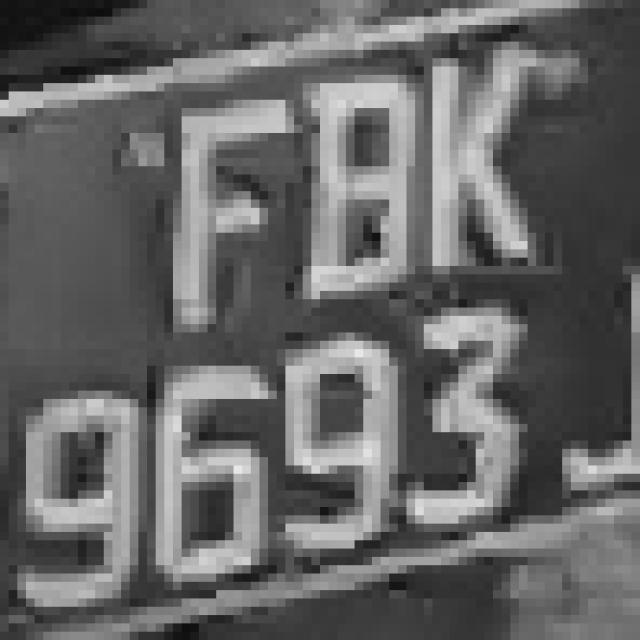3: (380, 308, 519, 540)
6: (147, 332, 268, 598)
9: (9, 357, 190, 640), (286, 324, 432, 607)
B: (286, 42, 432, 366)
F: (130, 75, 294, 324)
K: (389, 33, 554, 291)
